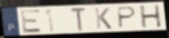1: (44, 9, 55, 32)
E: (19, 8, 44, 34)
H: (138, 4, 163, 29)
K: (93, 7, 113, 30)
P: (117, 6, 138, 30)
T: (69, 7, 88, 32)
